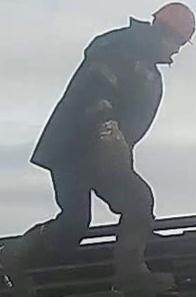gloves: (91, 121, 134, 176)
helmet: (151, 0, 196, 45)
vest: (33, 32, 163, 177)
